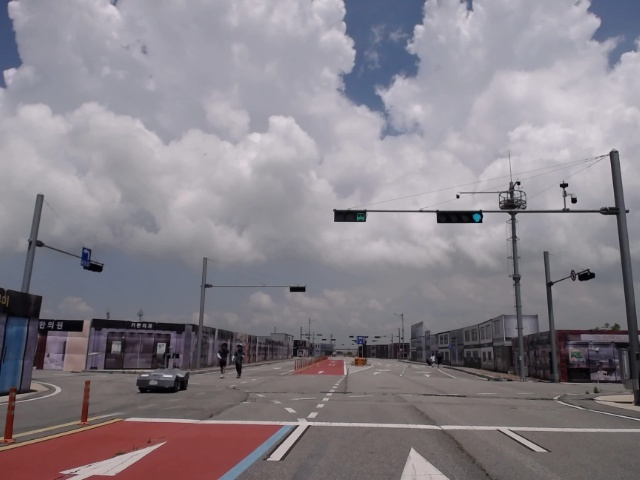straight_green_4: (436, 212, 481, 223)
